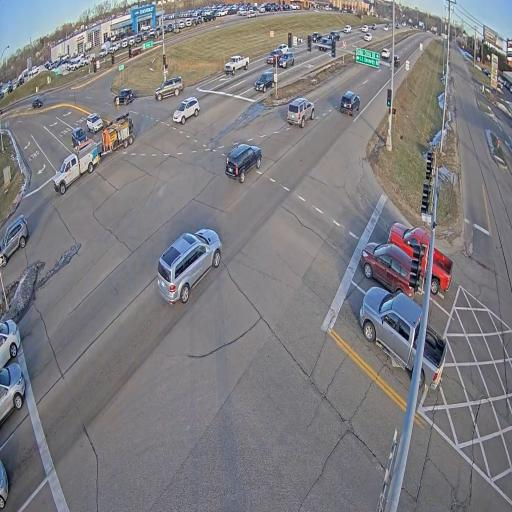pickup: (359, 286, 422, 379), (53, 140, 100, 194), (419, 326, 446, 389), (388, 223, 430, 256), (431, 248, 453, 294), (224, 55, 249, 75), (319, 38, 332, 51), (421, 251, 427, 276), (311, 32, 322, 42), (328, 31, 340, 40), (402, 22, 406, 27)
sedan: (255, 70, 274, 92), (33, 97, 42, 108), (277, 44, 289, 52), (383, 23, 389, 31)
suv: (157, 229, 222, 303), (361, 242, 415, 298), (0, 363, 25, 424), (0, 215, 29, 265), (225, 144, 262, 183), (0, 320, 21, 366), (287, 96, 315, 128), (173, 96, 200, 124), (155, 76, 183, 101), (340, 91, 360, 116), (112, 88, 133, 107), (266, 48, 285, 66), (87, 113, 103, 133), (72, 127, 87, 147), (279, 51, 294, 68), (381, 48, 390, 59), (394, 55, 400, 67), (343, 25, 351, 33), (364, 33, 372, 41), (362, 25, 368, 32), (371, 23, 377, 29), (395, 22, 399, 28)
